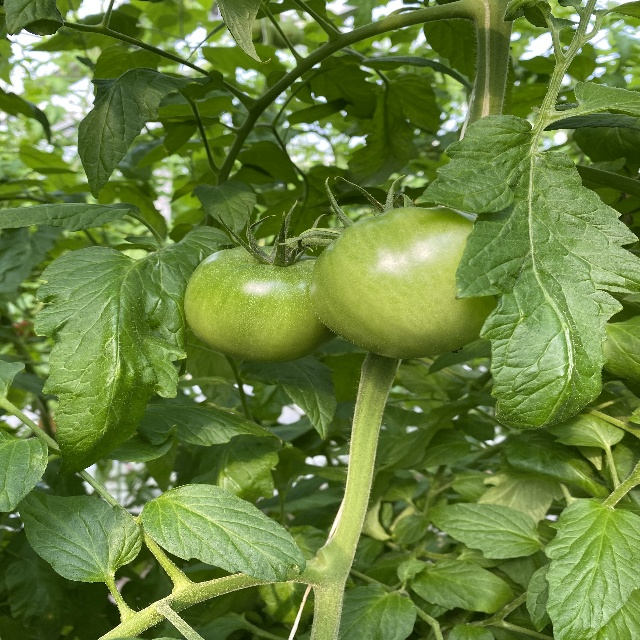b_green: (309, 206, 506, 359), (184, 245, 339, 364)
